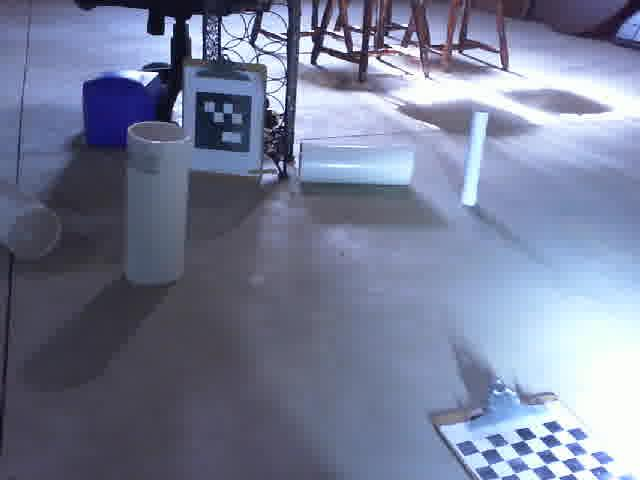coral: (126, 120, 190, 286), (0, 168, 59, 263), (298, 140, 415, 187)
